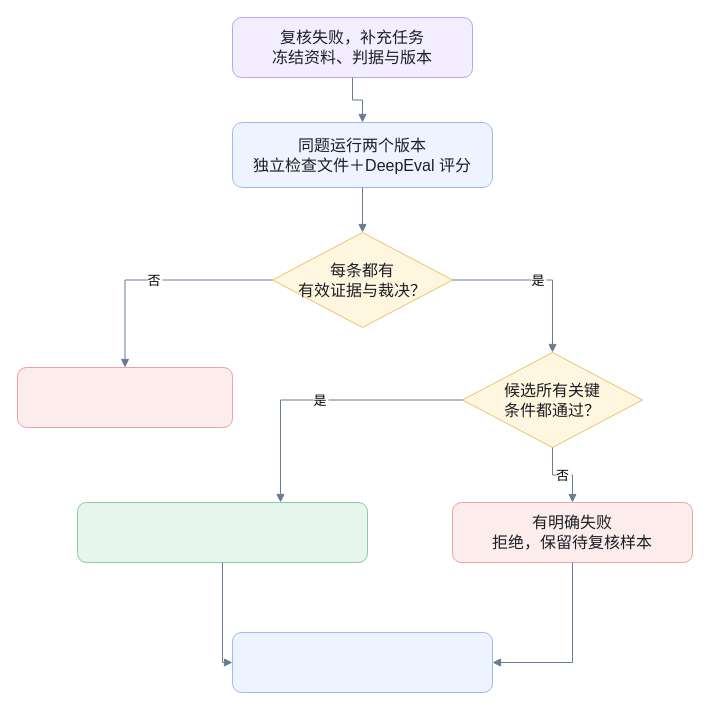
Some shapes in this 710 by 710 pixel diagram are drawn without their labels. The shapes that lost their labels are listed below. From the top down, each one's box as (x1, y1, x2, y2) in pixels, then its label:
(16, 366, 232, 428): 缺失或评分异常 阻止接受，先补齐
(76, 502, 368, 562): 范围内接受或未见退化 分别保存，不能替代上线决策
(232, 632, 492, 692): 复核失败原因后再补题 最小修复，重新运行
